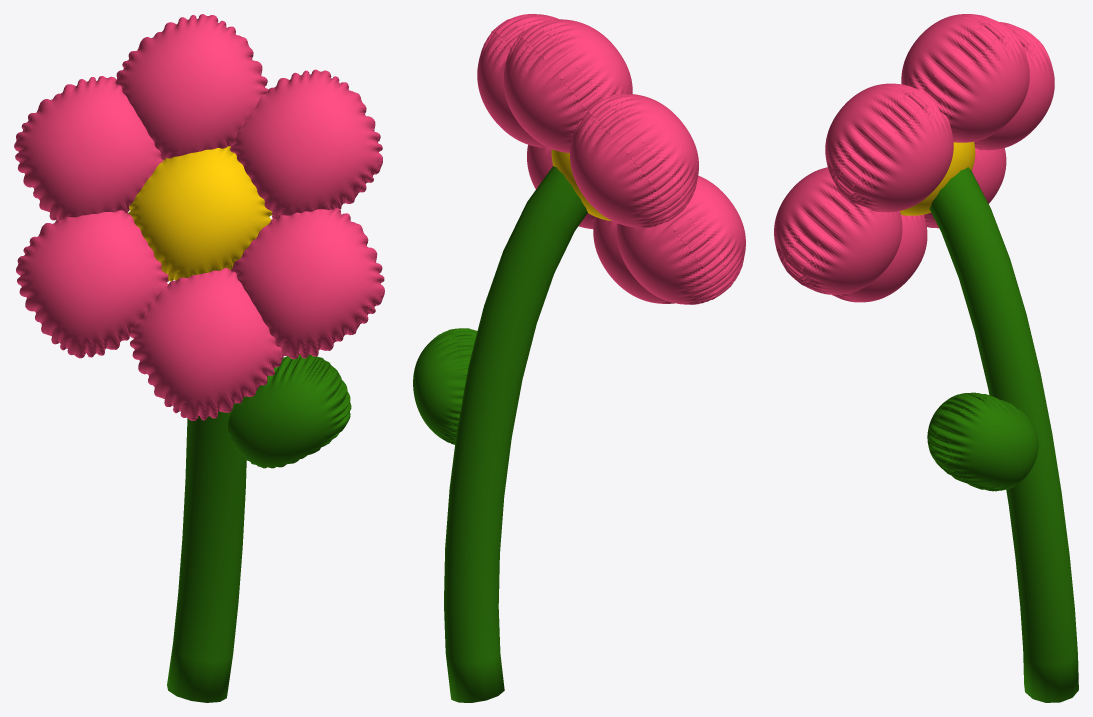
Rendered from Flower 2.fbx.
The picture shows the model from 3 angles, left to right: view 1: azimuth 30°, elevation 25°; view 2: azimuth 150°, elevation 25°; view 3: azimuth 270°, elevation 25°; orthographic projection. The views are drawn at different scales.
Parts seen in each view (by area): view 1: Flower.001; view 2: Flower.001; view 3: Flower.001.
Part boxes in pixels (left/top/right/bottom): Flower.001: left=14, top=14, right=384, bottom=702; Flower.001: left=413, top=14, right=745, bottom=702; Flower.001: left=774, top=14, right=1078, bottom=702.
Bounding box in the file's own units: 161 × 334 × 142.
